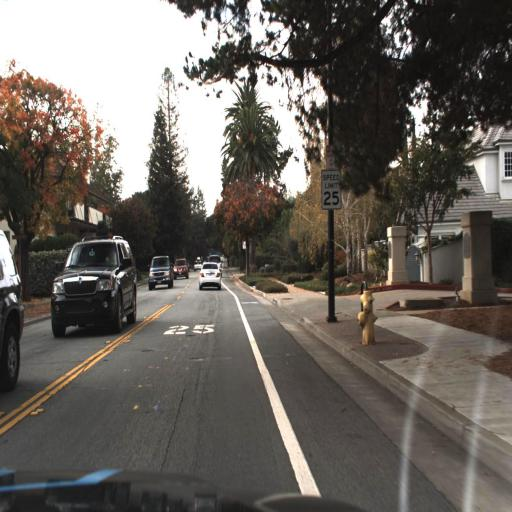car: (47, 229, 138, 338), (0, 220, 26, 408), (148, 254, 174, 290), (198, 258, 221, 292), (208, 254, 225, 286)
